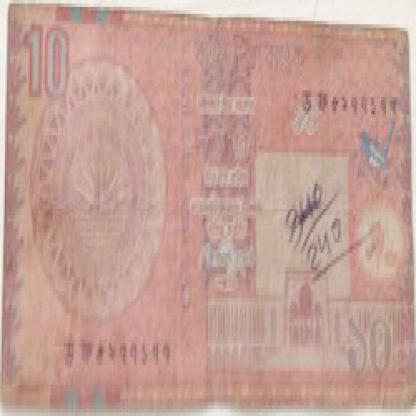Ten Taka: (22, 14, 82, 104), (344, 305, 394, 392)
